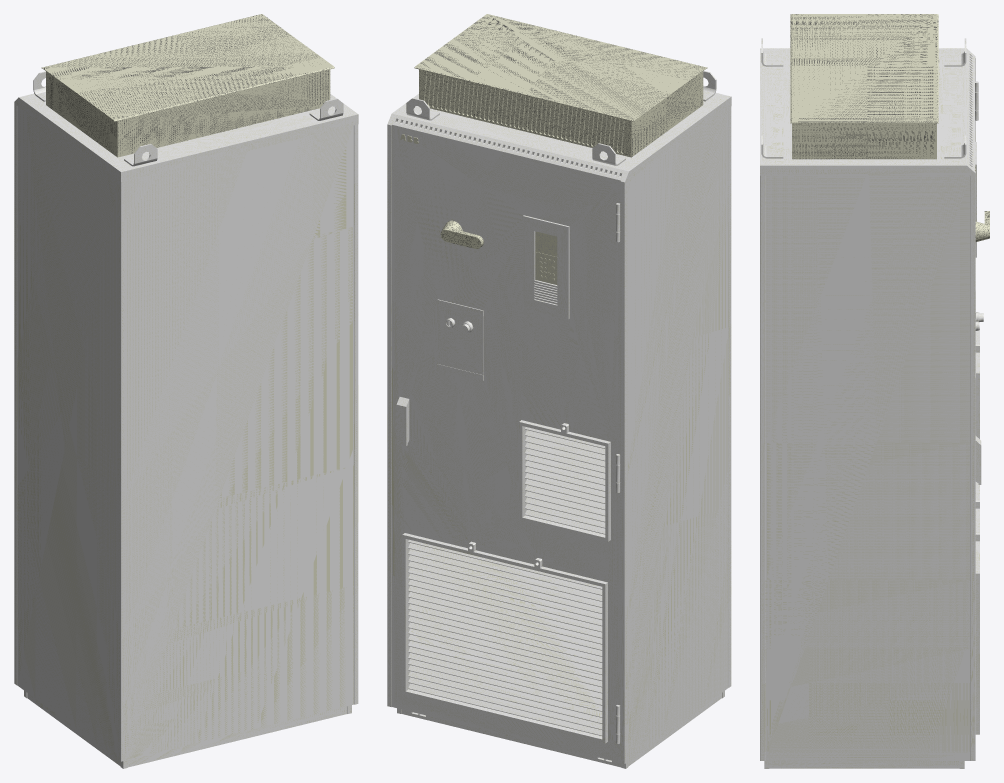
3 renders of one model, left to right at view 1: azimuth 30°, elevation 25°; view 2: azimuth 150°, elevation 25°; view 3: azimuth 270°, elevation 25°, orthographic.
Visible parts, largest first — view 1: mesh1_mesh1-geometry, mesh4_mesh4-geometry; view 2: mesh1_mesh1-geometry, mesh4_mesh4-geometry, mesh2_mesh2-geometry, mesh3_mesh3-geometry; view 3: mesh1_mesh1-geometry, mesh4_mesh4-geometry.
Boxes of the visible parts, <box> form: mesh1_mesh1-geometry: <box>14,71,358,768</box>; mesh4_mesh4-geometry: <box>41,14,334,157</box>; mesh1_mesh1-geometry: <box>387,71,731,768</box>; mesh4_mesh4-geometry: <box>414,14,707,157</box>; mesh2_mesh2-geometry: <box>535,231,557,284</box>; mesh3_mesh3-geometry: <box>440,220,483,248</box>; mesh1_mesh1-geometry: <box>760,38,983,768</box>; mesh4_mesh4-geometry: <box>790,14,938,159</box>.
Bounding box in the file's own units: 0.3476 × 0.8921 × 0.2886.
